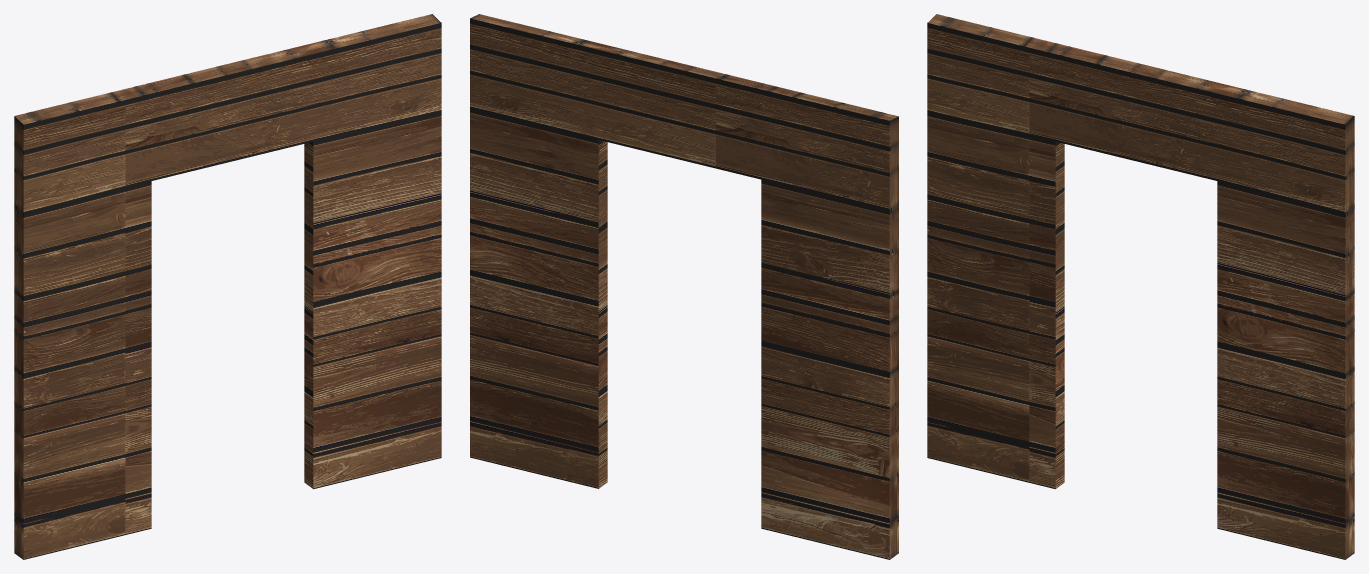
The model's file is door.glb.
3 renders of one model, left to right at view 1: azimuth 30°, elevation 25°; view 2: azimuth 150°, elevation 25°; view 3: azimuth 330°, elevation 25°, orthographic.
Parts seen in each view (by area): view 1: Door; view 2: Door; view 3: Door.
Boxes of the visible parts, x1,y1,x2,y2 form: Door: (14, 14, 441, 559); Door: (470, 14, 898, 559); Door: (927, 14, 1354, 559).
Bounding box in the file's own units: 2 × 2 × 0.0751.
1 material, 1 textured.
